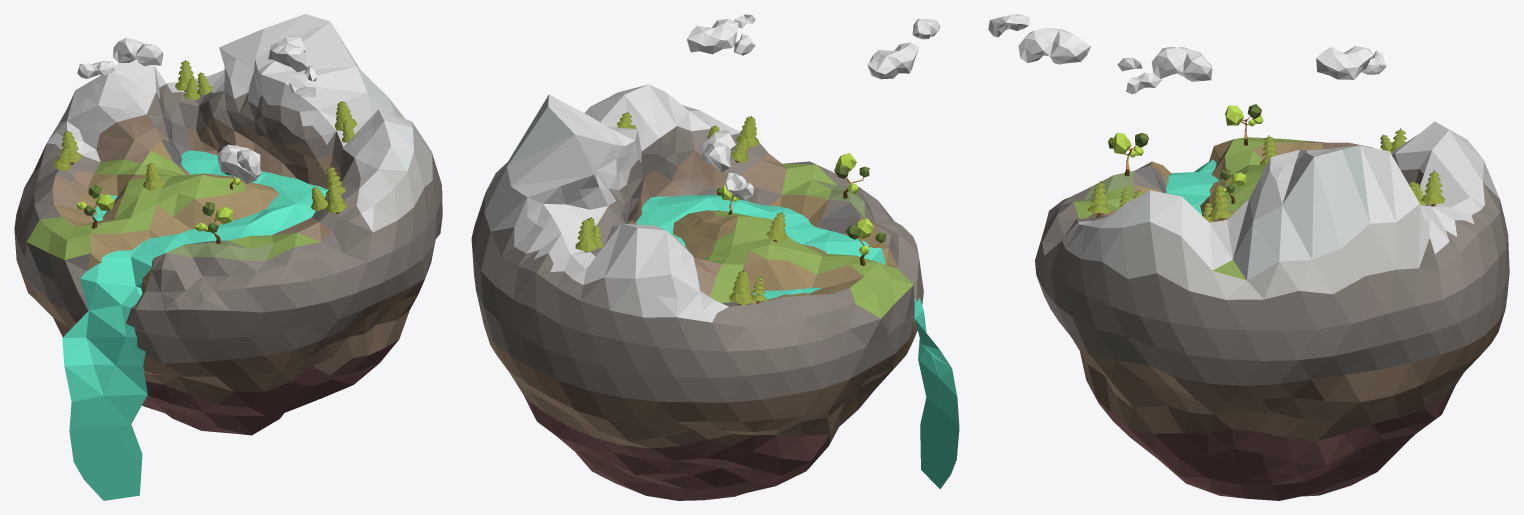
Rendered from island.glb.
The picture shows the model from 3 angles, left to right: view 1: azimuth 30°, elevation 25°; view 2: azimuth 150°, elevation 25°; view 3: azimuth 270°, elevation 25°; orthographic projection. The views are drawn at different scales.
Visible parts, largest first — view 1: Material_002-material, Material_001-material, Material_003-material; view 2: Material_002-material, Material_001-material, Material_003-material, Material_007-material.008; view 3: Material_002-material, Material_003-material, Material_001-material.
Part boxes in pixels (x1,y1,x2,y2): Material_002-material: (14,14,442,435); Material_001-material: (62,150,328,500); Material_003-material: (77,36,316,183); Material_002-material: (471,84,923,500); Material_001-material: (636,195,959,489); Material_003-material: (687,14,939,200); Material_007-material.008: (729,271,754,305); Material_002-material: (1035,121,1509,500); Material_003-material: (988,14,1386,94); Material_001-material: (1166,159,1218,214).
Bounding box in the file's own units: 20.92 × 20.54 × 21.87.
